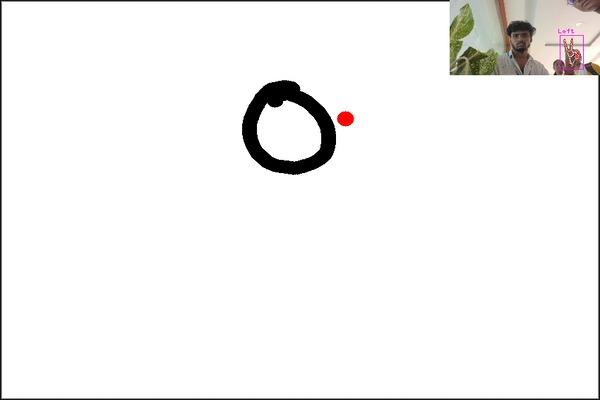O: (232, 68, 345, 184)
